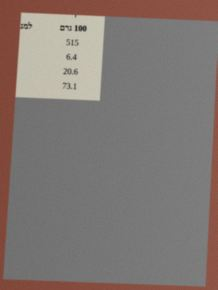carbs: (61, 80, 78, 92)
energy: (65, 37, 80, 48)
fat: (62, 66, 79, 77)
protein: (65, 51, 78, 63)
